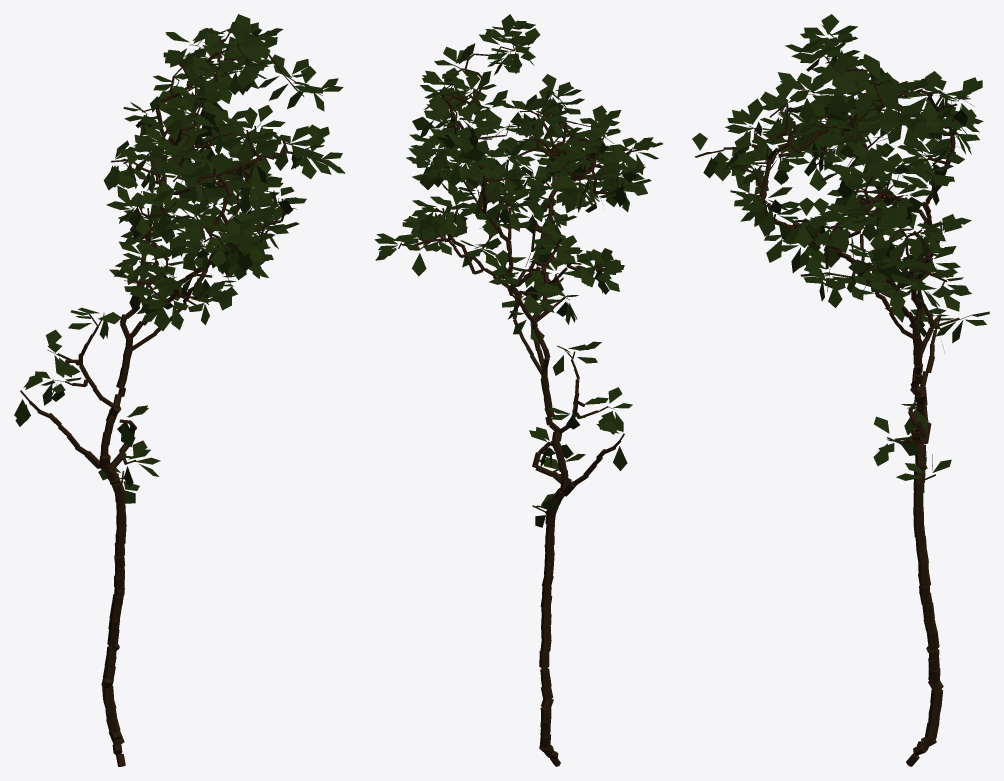
Rendered from tree_344.obj.
The picture shows the model from 3 angles, left to right: view 1: azimuth 30°, elevation 25°; view 2: azimuth 150°, elevation 25°; view 3: azimuth 270°, elevation 25°; orthographic projection. The views are drawn at different scales.
Parts seen in each view (by area): view 1: Leaves, TrunkAndBranches; view 2: Leaves, TrunkAndBranches; view 3: Leaves, TrunkAndBranches.
Boxes of the visible parts, x1,y1,x2,y2 form: Leaves: (14,14,345,503); TrunkAndBranches: (20,34,323,766); Leaves: (374,14,663,527); TrunkAndBranches: (398,34,642,766); Leaves: (692,14,989,505); TrunkAndBranches: (699,38,974,766).
Bounding box in the file's own units: 3.46 × 8.88 × 3.04.
